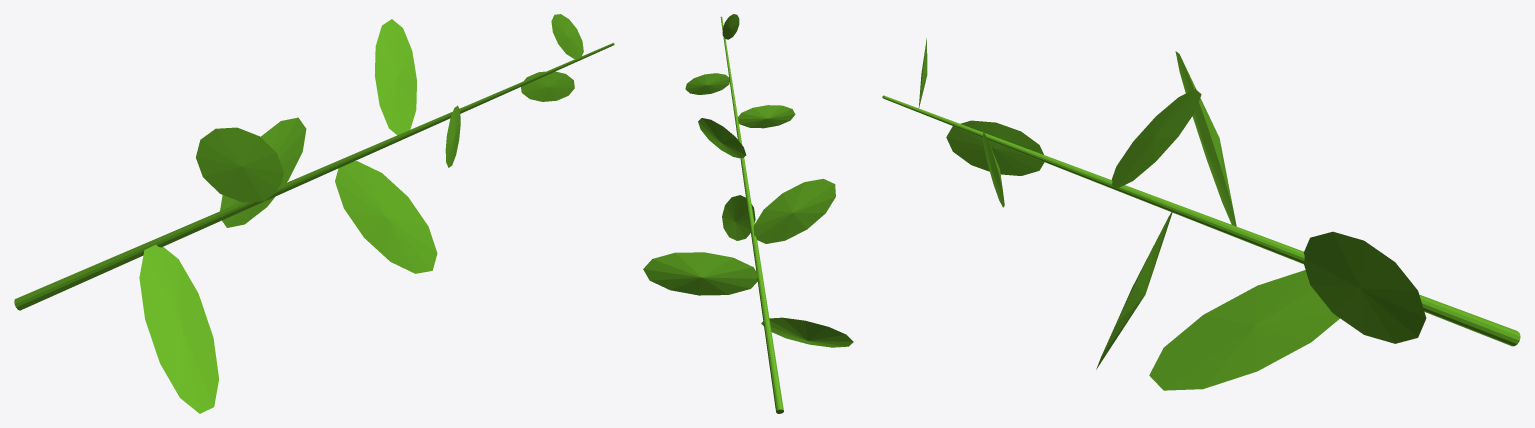
The picture shows the model from 3 angles, left to right: view 1: azimuth 30°, elevation 25°; view 2: azimuth 150°, elevation 25°; view 3: azimuth 270°, elevation 25°; orthographic projection. The views are drawn at different scales.
Size of the model in its own units: 0.1977 by 0.2115 by 0.2428.
